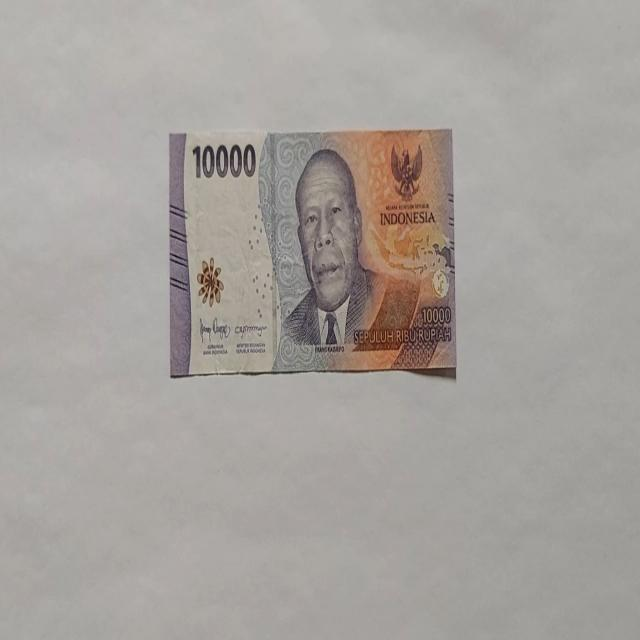sepuluh ribu rupiah: (169, 126, 456, 378)
